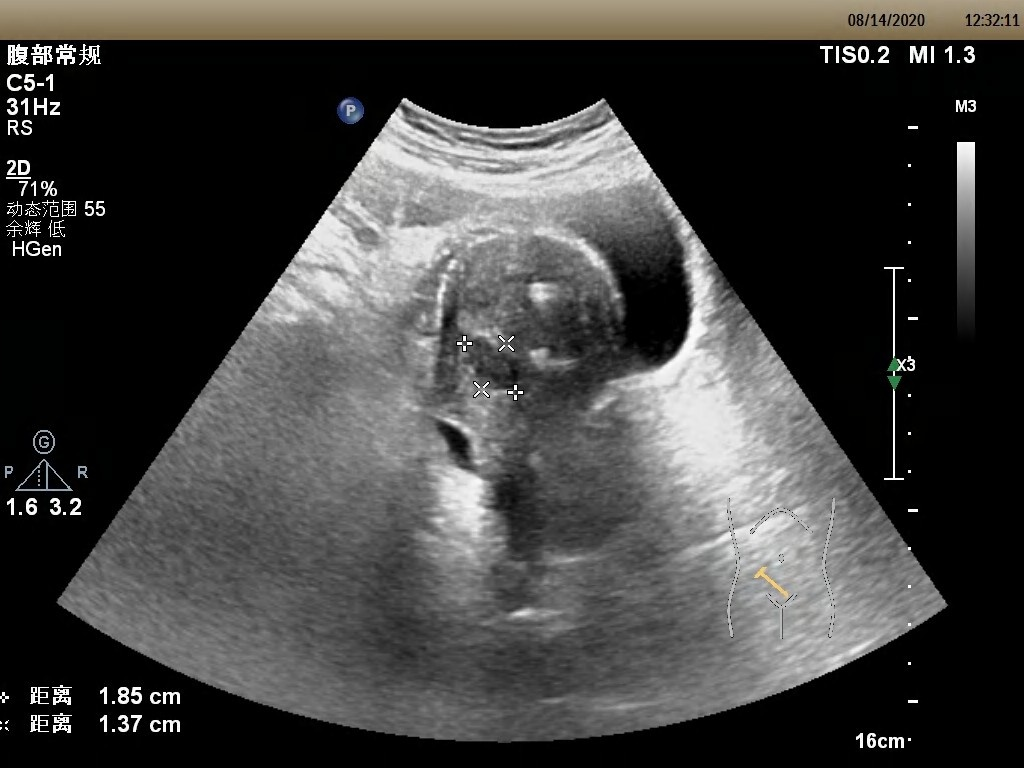肌瘤: (464, 336, 518, 391)
